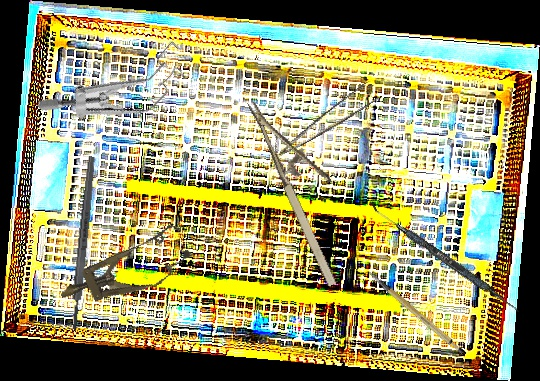Needle Holder: (247, 85, 368, 289)
Scalpel Handle: (367, 258, 467, 366), (68, 155, 98, 331)
Spatula Surgical: (364, 202, 524, 314)
Speculum: (34, 0, 204, 167), (51, 219, 198, 321)
Tissue Forceps: (260, 77, 386, 163)
